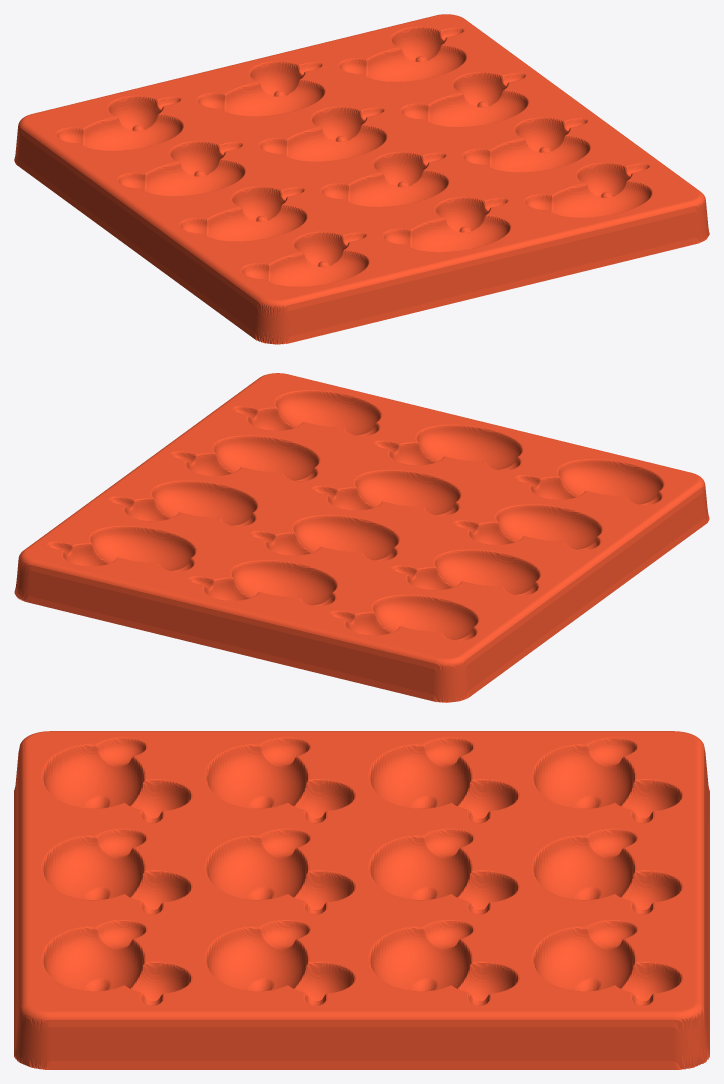
File: mold.glb
3 renders of one model, top to bottom at view 1: azimuth 30°, elevation 25°; view 2: azimuth 150°, elevation 25°; view 3: azimuth 270°, elevation 25°, orthographic. The views are drawn at different scales.
Parts seen in each view (by area): view 1: geometry_0; view 2: geometry_0; view 3: geometry_0.
Boxes of the visible parts, bbox=[...] form: geometry_0: bbox=[14, 14, 709, 344]; geometry_0: bbox=[14, 373, 709, 702]; geometry_0: bbox=[14, 731, 709, 1069].
Size of the model in its own units: 0.173 by 0.0145 by 0.1745.
